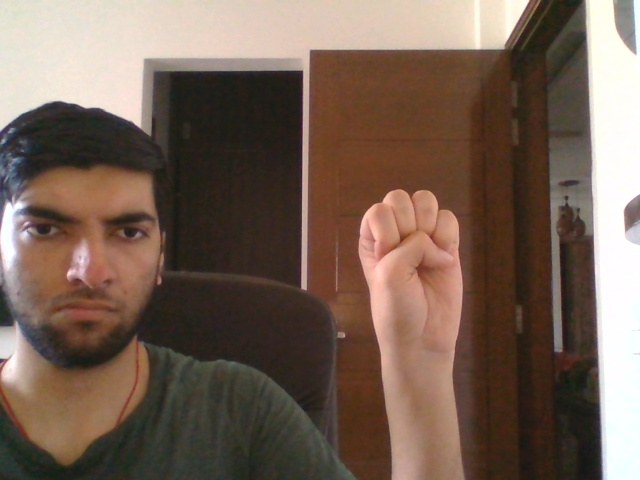LetterS: (355, 186, 466, 364)
